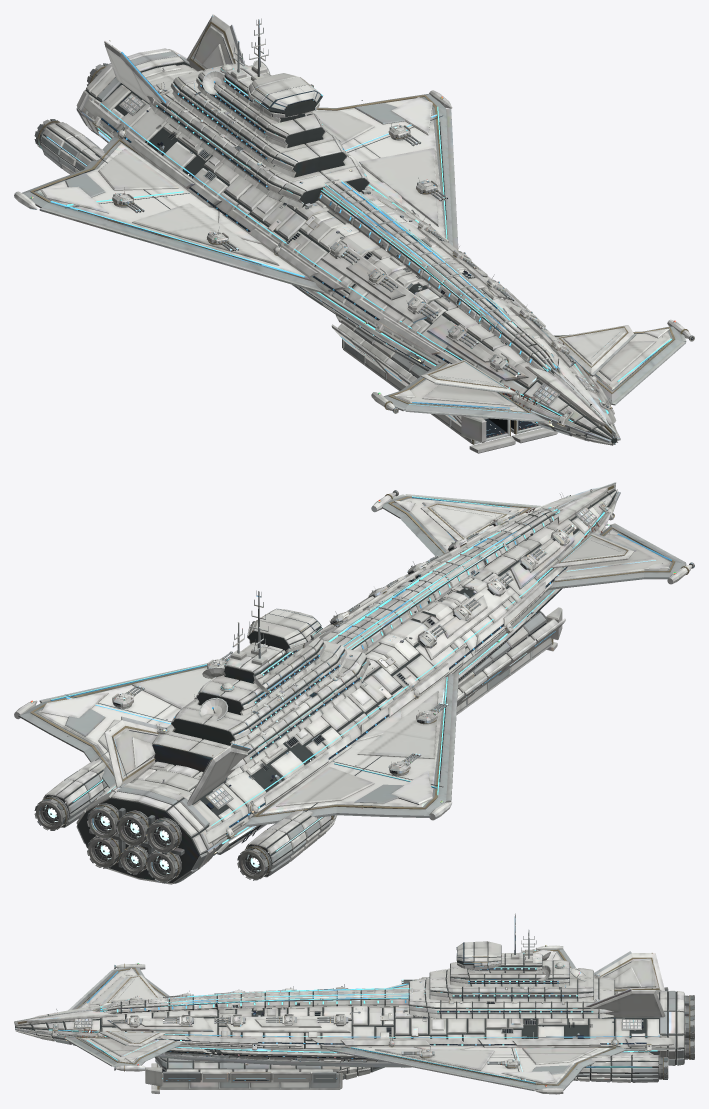
The model's file is astraeon_flagship.glb.
3 renders of one model, top to bottom at view 1: azimuth 30°, elevation 25°; view 2: azimuth 150°, elevation 25°; view 3: azimuth 270°, elevation 25°, orthographic. The views are drawn at different scales.
Parts seen in each view (by area): view 1: astraeon_flagship_hull; view 2: astraeon_flagship_hull, astraeon_flagship_plasma; view 3: astraeon_flagship_hull, astraeon_flagship_glass.
Part boxes in pixels (box(x1,y1,x2,y2)): astraeon_flagship_hull: box(14, 14, 694, 453); astraeon_flagship_hull: box(14, 482, 694, 884); astraeon_flagship_plasma: box(45, 805, 260, 873); astraeon_flagship_hull: box(14, 913, 694, 1094); astraeon_flagship_glass: box(167, 942, 646, 1058).
Bounding box in the file's own units: 201 × 107 × 398.
Materials: 3 (1 with a texture image).
